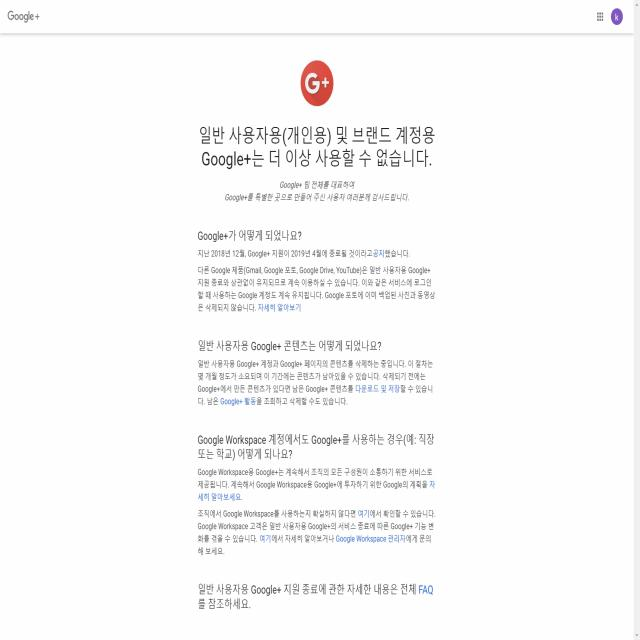menu-bar: (591, 2, 627, 30)
